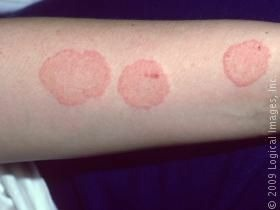Ringworm: (33, 43, 114, 109), (117, 54, 174, 112), (217, 33, 272, 91)
